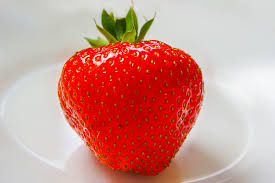strawberry: (58, 7, 206, 176)
